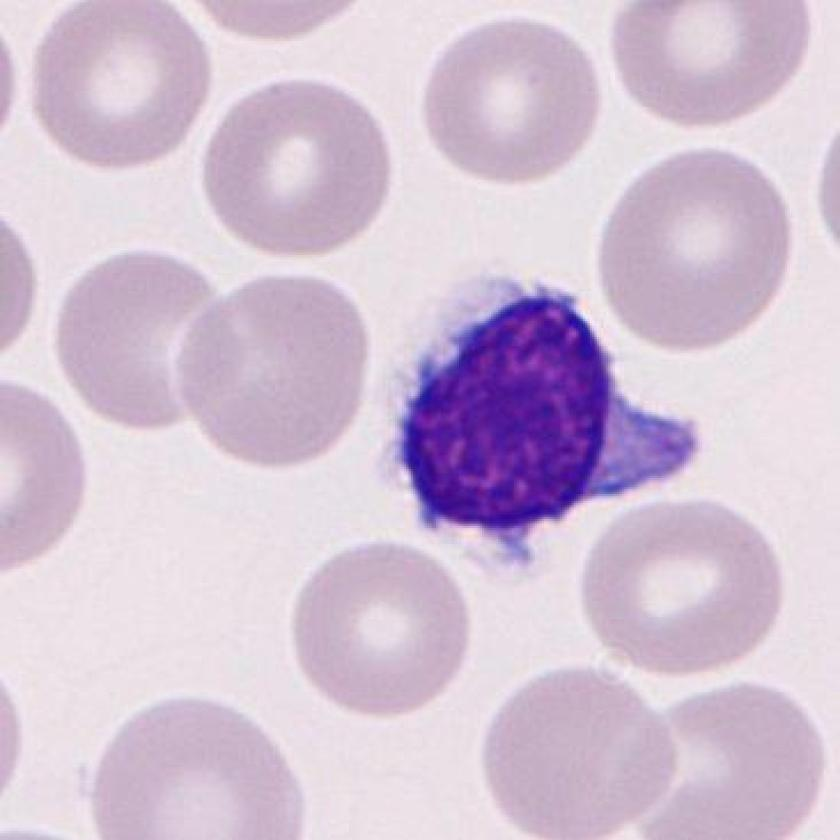lymphocyte: (373, 272, 712, 570)
